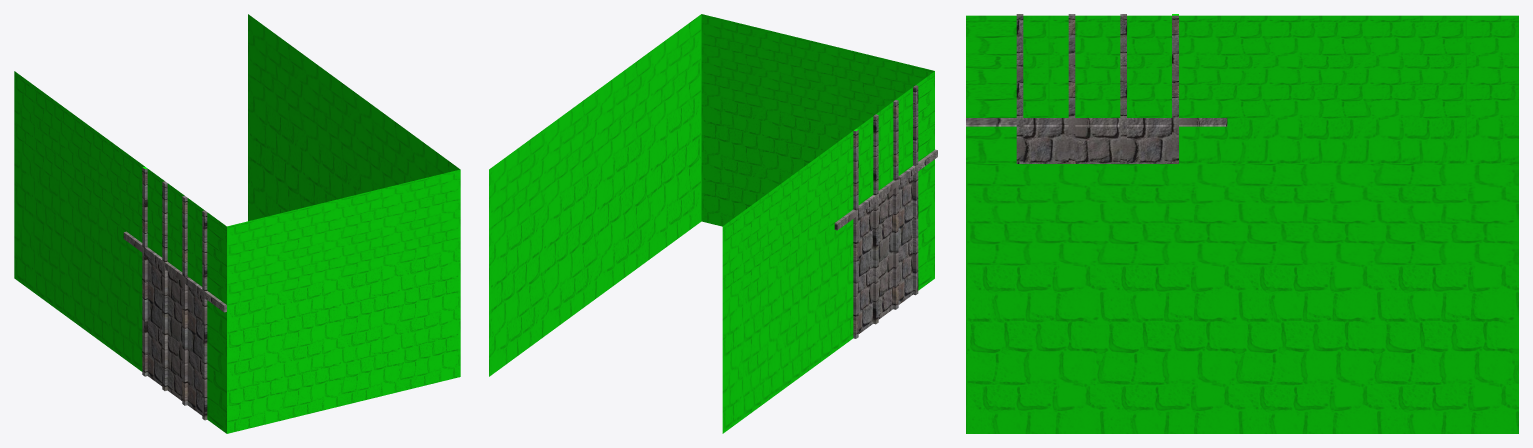
3 views of the same model, side by side, from view 1: azimuth 30°, elevation 25°; view 2: azimuth 150°, elevation 25°; view 3: azimuth 270°, elevation 25° (orthographic). The views are drawn at different scales.
Visible parts, largest first — view 1: 별관 큰 몸통, 별관 큰 몸통_lron, 별관 큰 몸통_window, 별관 큰 몸통_window_lorn; view 2: 별관 큰 몸통, 별관 큰 몸통_lron, 별관 큰 몸통_window, 별관 큰 몸통_window_lorn; view 3: 별관 큰 몸통, 별관 큰 몸통_lron, 별관 큰 몸통_window.
Part boxes in pixels (x1,y1,x2,y2): 별관 큰 몸통: (14,14,460,433); 별관 큰 몸통_lron: (123,167,226,420); 별관 큰 몸통_window: (147,257,202,415); 별관 큰 몸통_window_lorn: (147,263,202,411); 별관 큰 몸통: (489,14,934,433); 별관 큰 몸통_lron: (834,85,937,338); 별관 큰 몸통_window: (858,175,912,333); 별관 큰 몸통_window_lorn: (858,181,912,329); 별관 큰 몸통: (966,14,1518,433); 별관 큰 몸통_lron: (966,14,1227,163); 별관 큰 몸통_window: (1023,126,1171,163).
Size of the model in its own units: 338 by 284 by 526.
